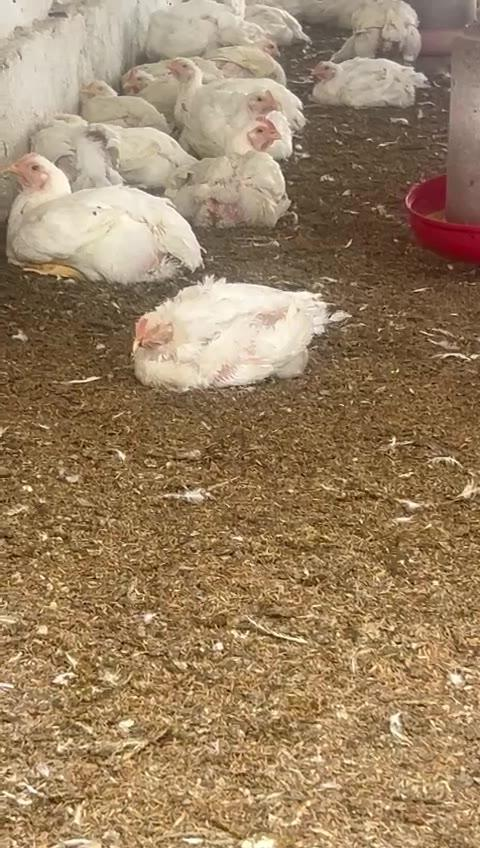AbNormal: (0, 150, 205, 280), (137, 277, 329, 389), (164, 117, 289, 225), (306, 59, 426, 109)
